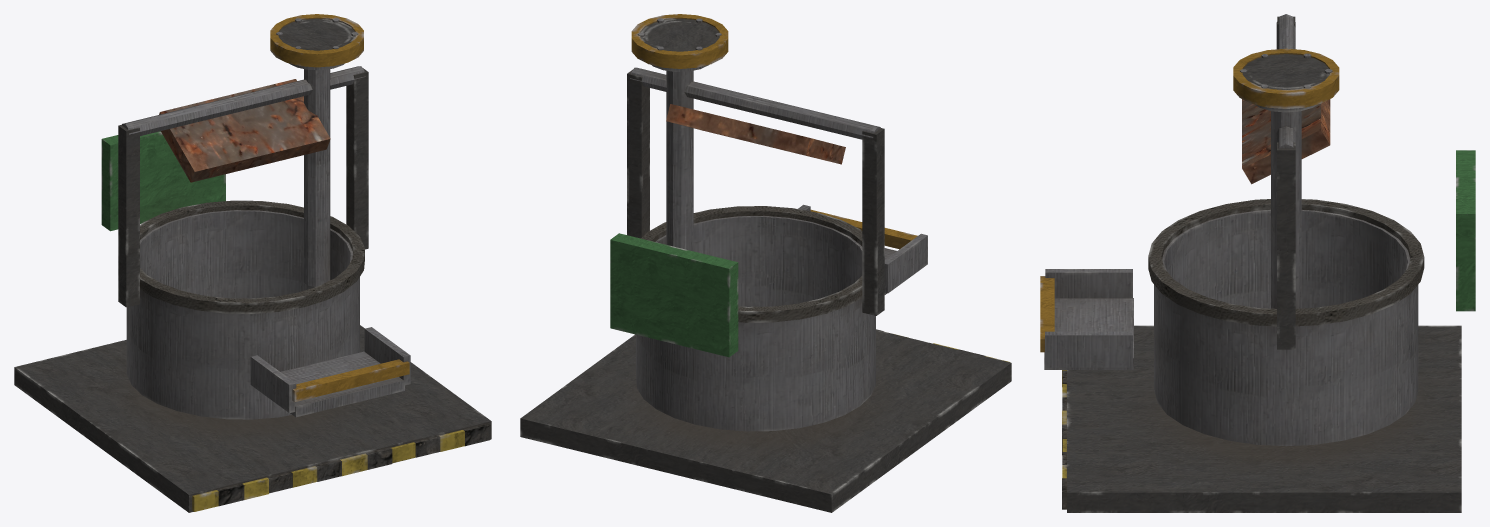
The model's file is feItemDrain_HD.fbx.
3 views of the same model, side by side, from view 1: azimuth 30°, elevation 25°; view 2: azimuth 150°, elevation 25°; view 3: azimuth 270°, elevation 25° (orthographic). The views are drawn at different scales.
Parts seen in each view (by area): view 1: feItemDrain_Base; view 2: feItemDrain_Base; view 3: feItemDrain_Base.
Part boxes in pixels (x1=…): feItemDrain_Base: x1=14, y1=14, x2=491, y2=512; feItemDrain_Base: x1=520, y1=14, x2=1011, y2=512; feItemDrain_Base: x1=1040, y1=14, x2=1475, y2=512.
Bounding box in the file's own units: 0.9012 × 1.01 × 0.9936.
2 materials, 1 textured.
